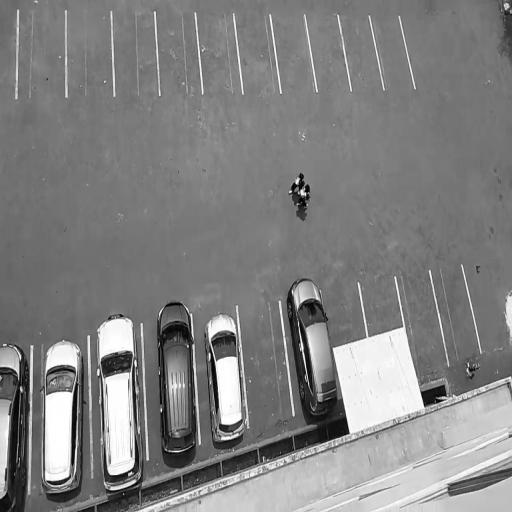Car: (95, 307, 147, 502), (285, 274, 342, 425), (154, 296, 199, 464), (39, 332, 84, 498), (202, 308, 250, 451), (0, 335, 29, 512)
Space Available: (238, 300, 293, 427), (396, 272, 448, 373), (431, 265, 482, 367), (17, 10, 67, 96), (66, 11, 114, 95), (155, 12, 204, 94), (112, 12, 159, 95), (196, 12, 243, 94), (235, 12, 280, 94), (271, 14, 317, 93), (306, 15, 351, 92), (370, 14, 415, 90), (338, 15, 383, 91), (322, 283, 368, 348), (360, 278, 404, 338), (0, 10, 18, 99)
